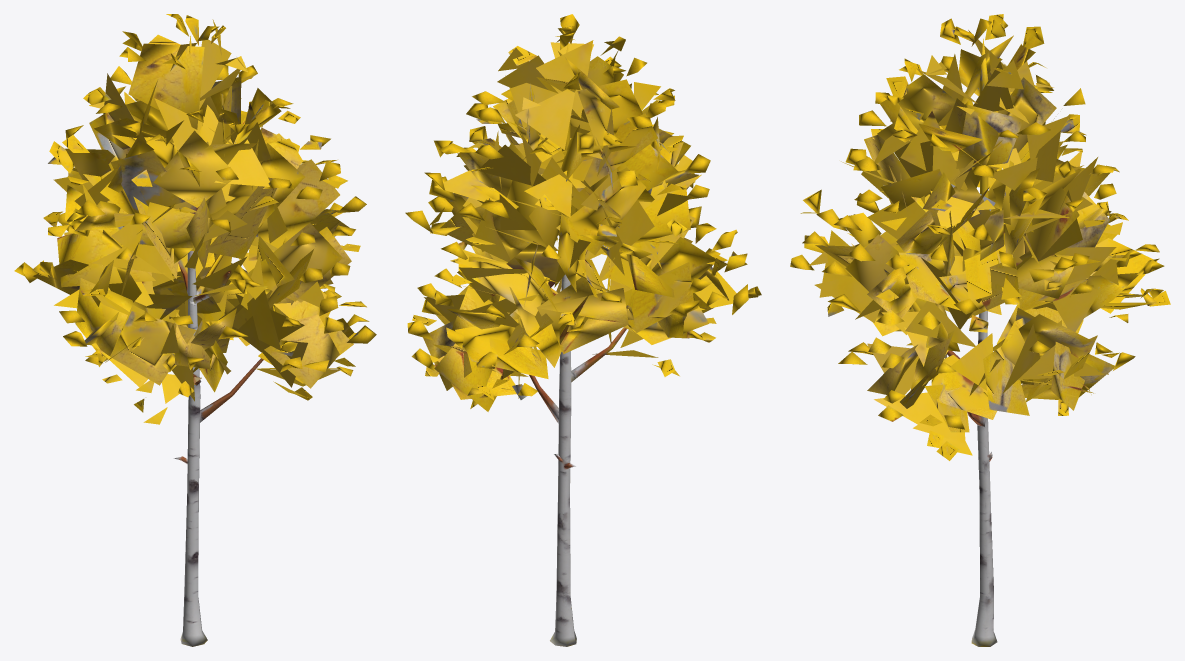
File: tree-birch.glb
3 views of the same model, side by side, from view 1: azimuth 30°, elevation 25°; view 2: azimuth 150°, elevation 25°; view 3: azimuth 270°, elevation 25° (orthographic).
Size of the model in its own units: 0.5317 by 0.9997 by 0.5576.
1 material, 1 textured.
